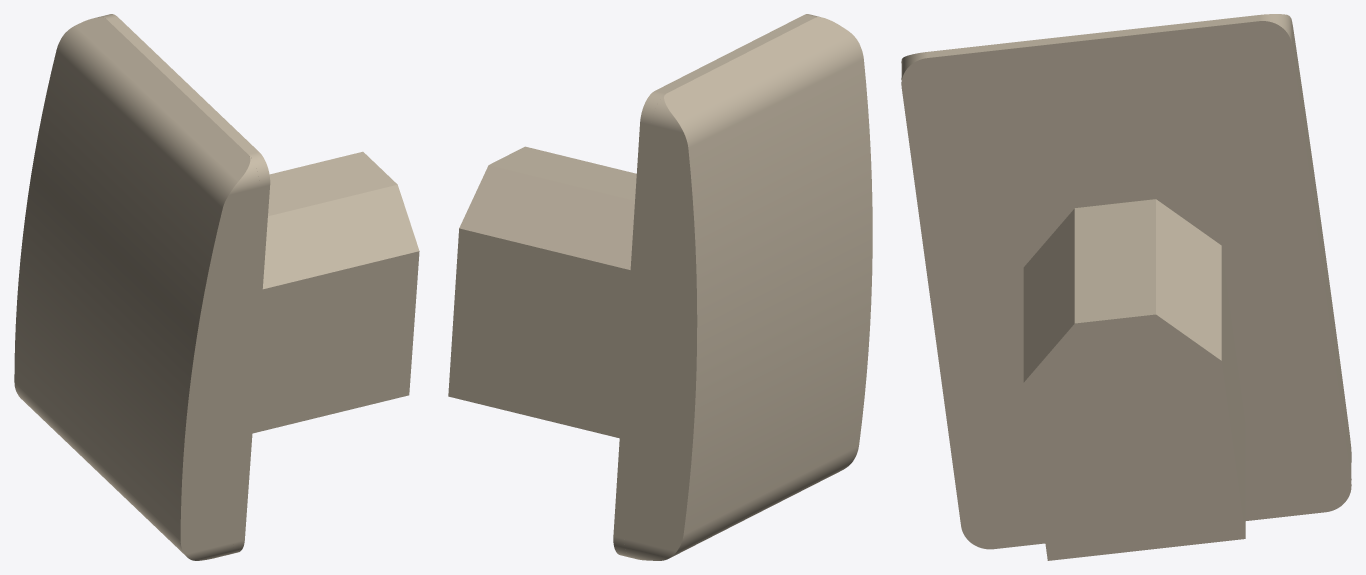
File: POWER ARCHITECTURE__SMARTPLUG INLET SYSTEM__50amp inlet.glb
The picture shows the model from 3 angles, left to right: view 1: azimuth 30°, elevation 25°; view 2: azimuth 150°, elevation 25°; view 3: azimuth 270°, elevation 25°; orthographic projection. The views are drawn at different scales.
Visible parts, largest first — view 1: 50amp inlet; view 2: 50amp inlet; view 3: 50amp inlet.
Boxes of the visible parts, bbox=[...] form: 50amp inlet: bbox=[14, 14, 419, 560]; 50amp inlet: bbox=[448, 14, 872, 560]; 50amp inlet: bbox=[901, 14, 1351, 560].
Bounding box in the file's own units: 0.0791 × 0.126 × 0.0973.
